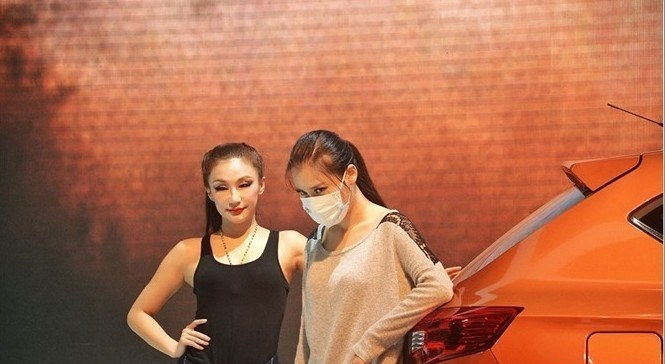face: (203, 159, 265, 221)
face_mask: (294, 162, 350, 222)
